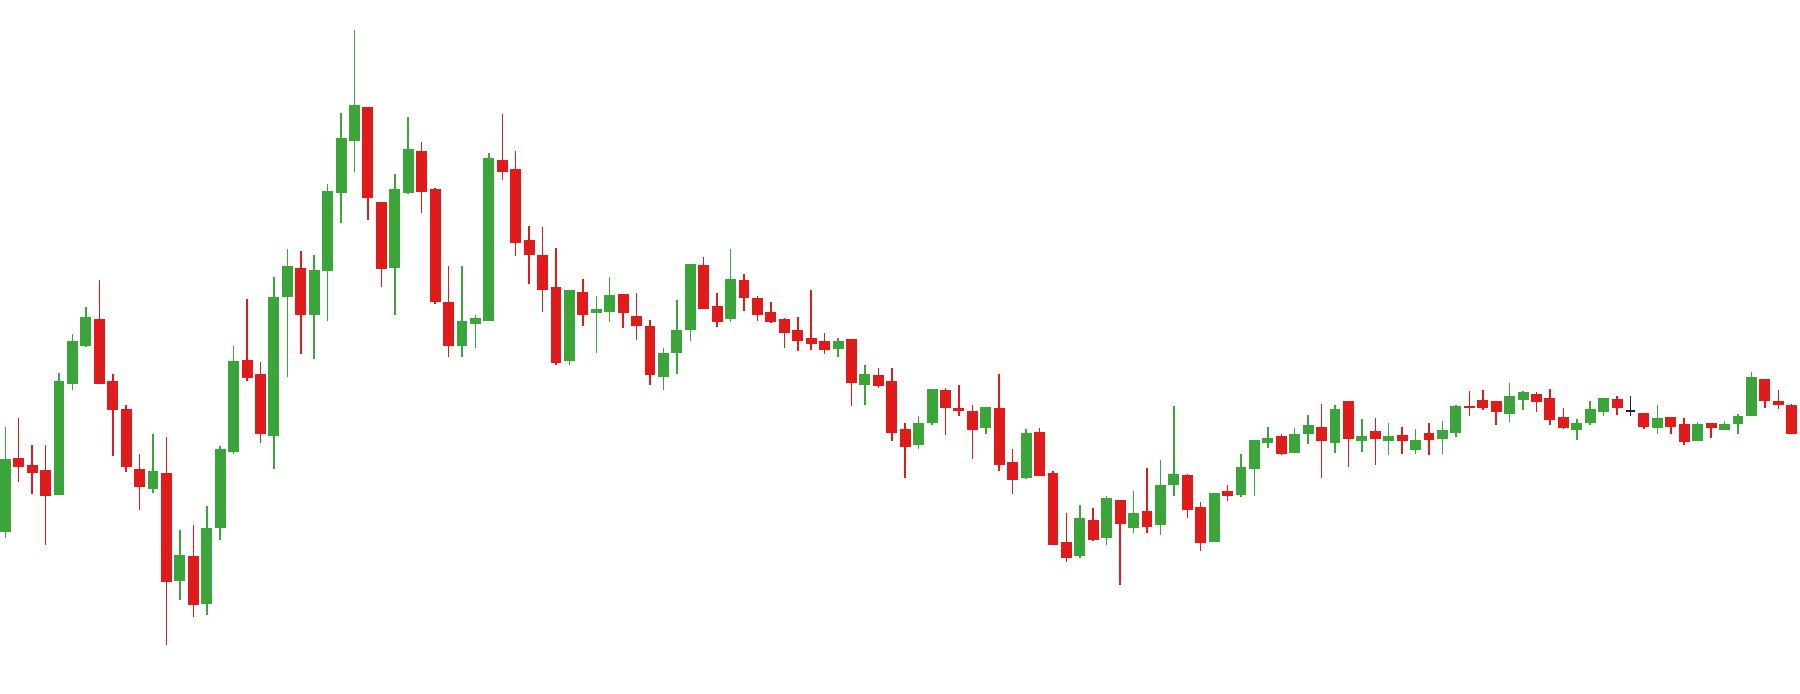sell: (399, 106, 509, 255), (603, 257, 711, 343)
